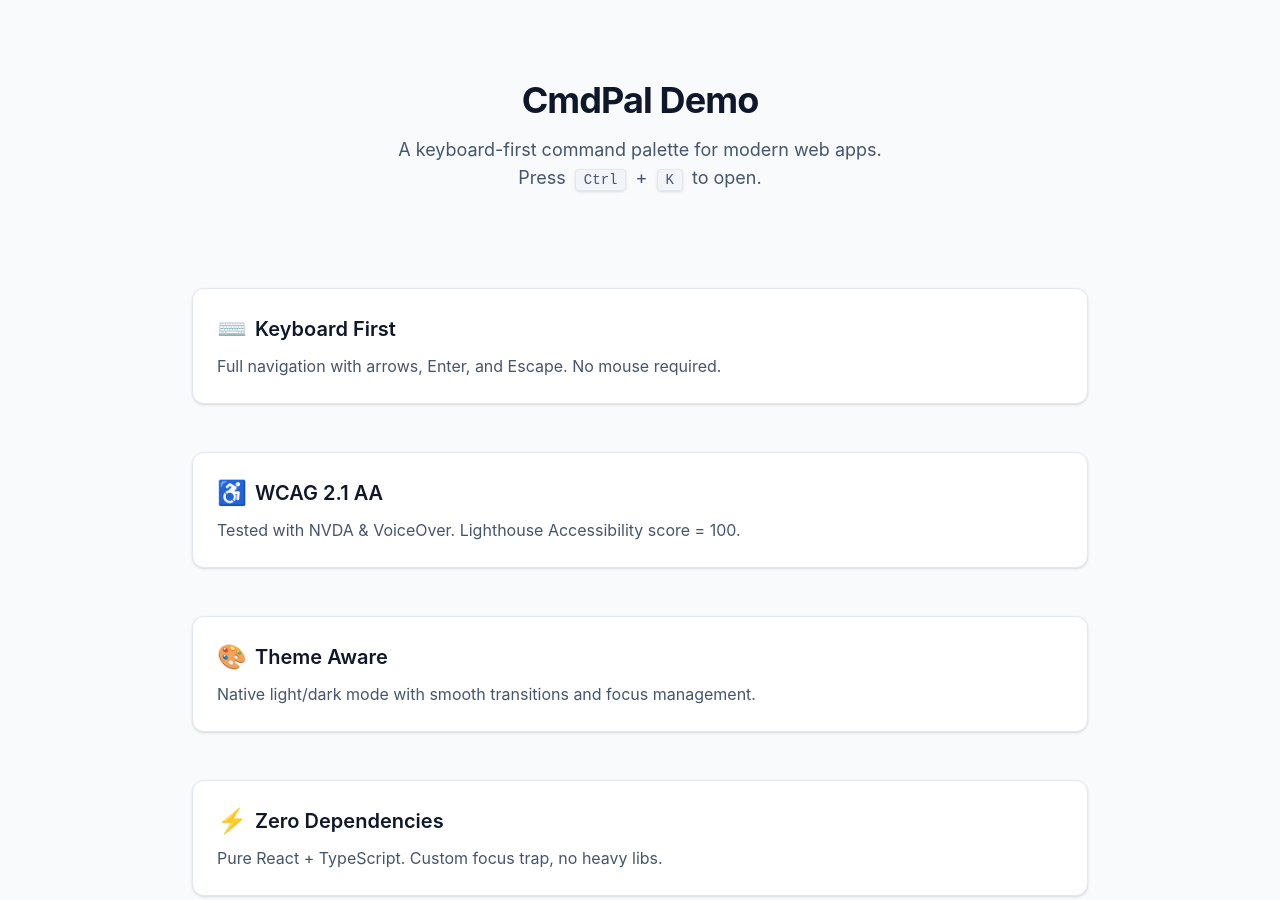
Test case: CmdPalOverlay Integration › Dialog › filters list when typing
Step 1. Type keys "{Control>}k{/Control}"
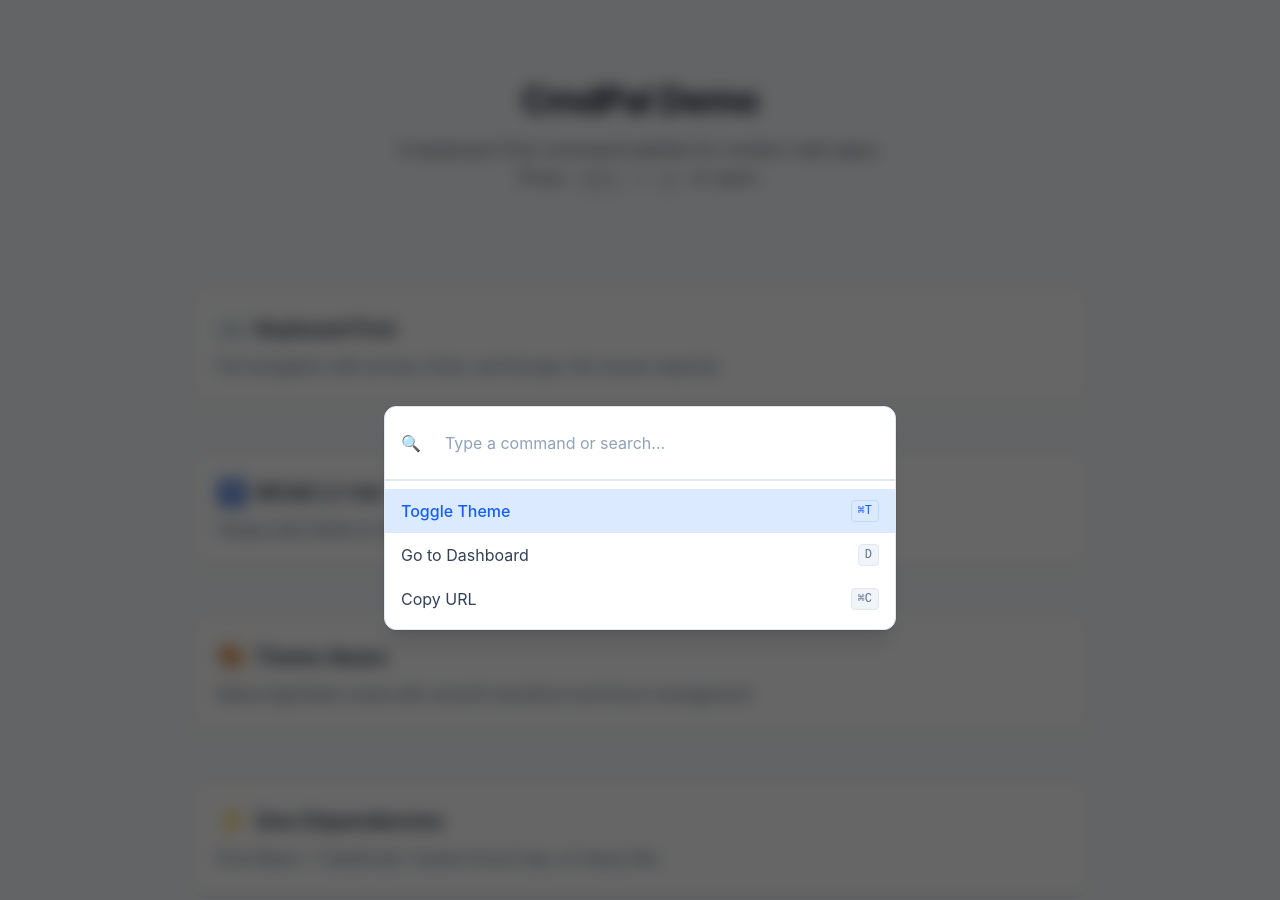
Now the text "Toggle Theme" is shown, box [401,498,510,522]
Now the text "Go to Dashboard" is shown, box [401,542,529,566]
Step 2. Type "dash" into the dropdown with placeholder "Type a command or search..." → (654, 442), box [429,418,879,466]
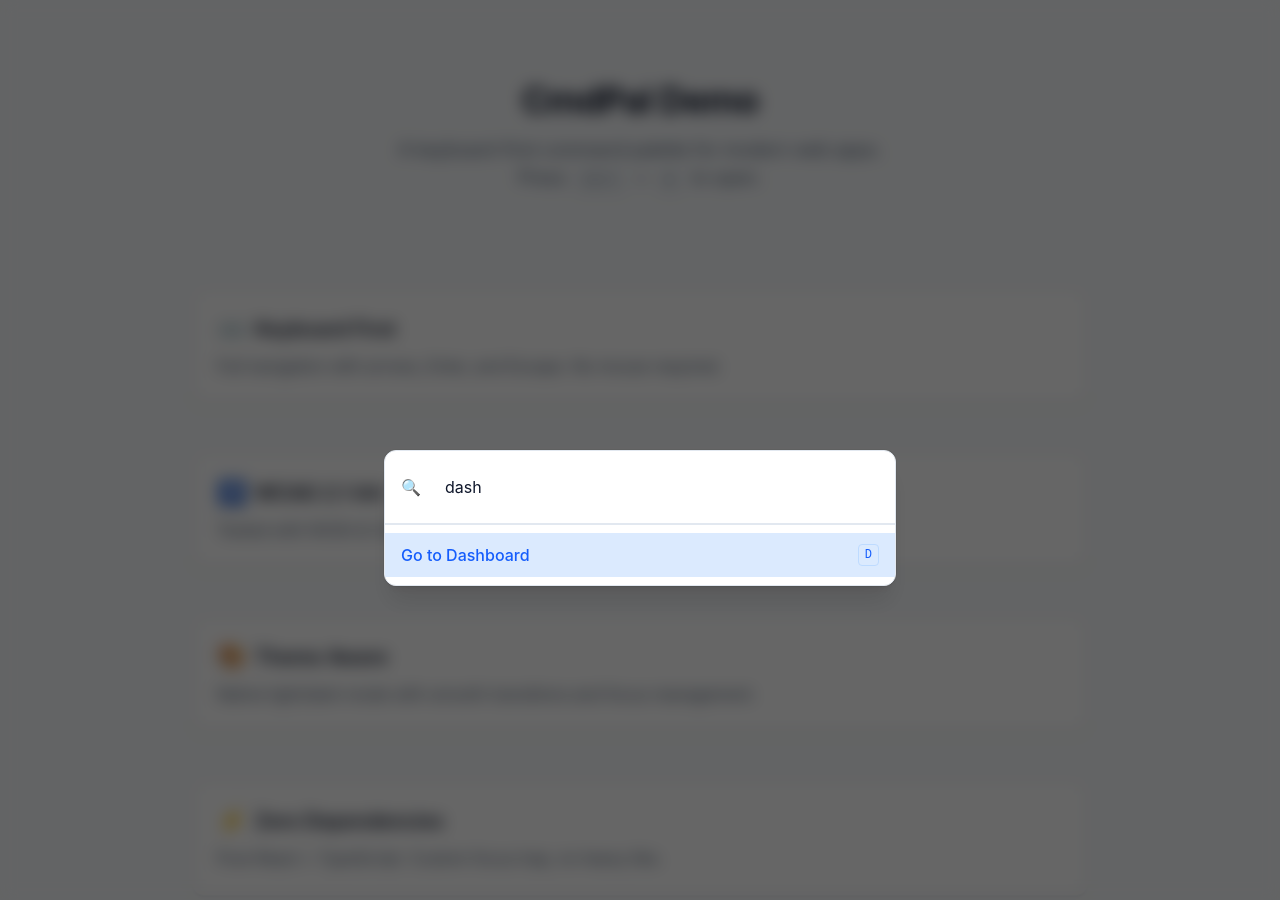
Now the text "Go to Dashboard" is shown, box [401,542,530,566]
Now the option "Toggle Theme" is gone
